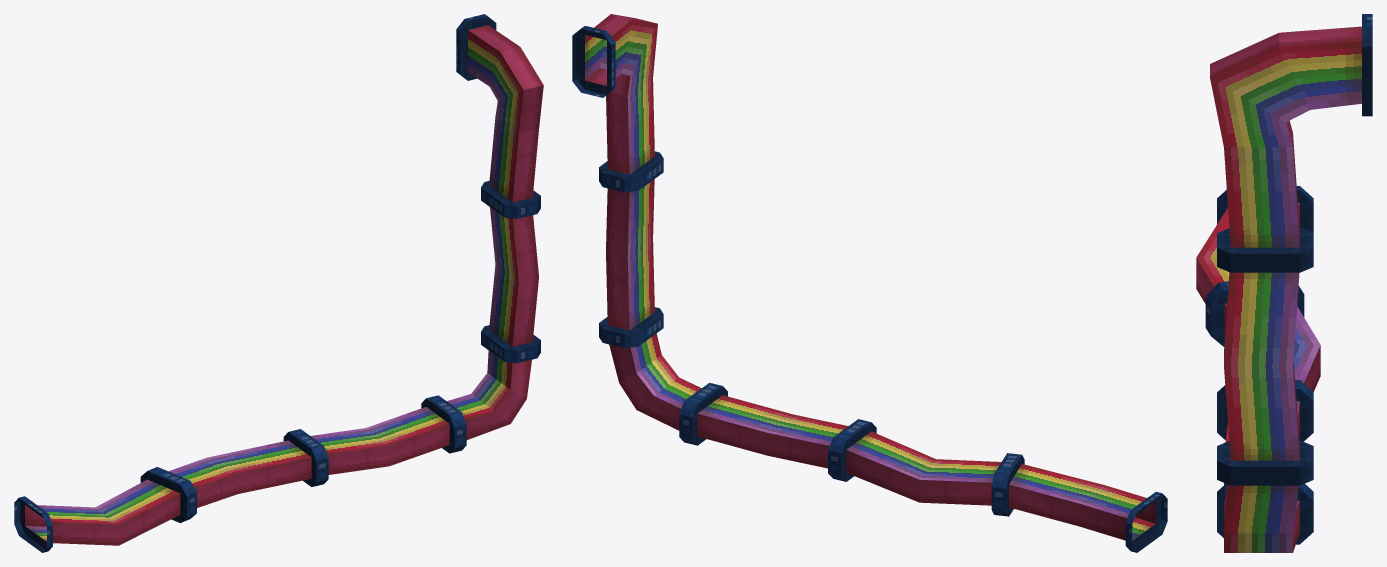
The model's file is bigwires.fbx.
3 renders of one model, left to right at view 1: azimuth 30°, elevation 25°; view 2: azimuth 150°, elevation 25°; view 3: azimuth 270°, elevation 25°, orthographic. The views are drawn at different scales.
Parts seen in each view (by area): view 1: polySurface19, polySurface25, polySurface13, polySurface9, polySurface16; view 2: polySurface19, polySurface25, polySurface13, polySurface9, polySurface16; view 3: polySurface25, polySurface13, polySurface16, polySurface19, polySurface9.
Part boxes in pixels (x1,y1,x2,y2): polySurface19: [14, 430, 322, 552]; polySurface25: [456, 14, 543, 212]; polySurface13: [481, 194, 540, 356]; polySurface9: [295, 397, 460, 485]; polySurface16: [432, 338, 540, 451]; polySurface19: [834, 420, 1167, 552]; polySurface25: [572, 14, 663, 185]; polySurface13: [599, 165, 663, 341]; polySurface9: [686, 384, 864, 480]; polySurface16: [599, 321, 715, 443]; polySurface25: [1210, 14, 1372, 263]; polySurface13: [1217, 257, 1313, 475]; polySurface16: [1217, 470, 1313, 552]; polySurface19: [1196, 186, 1320, 396]; polySurface9: [1217, 384, 1313, 495].
Bounding box in the file's own units: 6.15 × 4.53 × 1.28.
